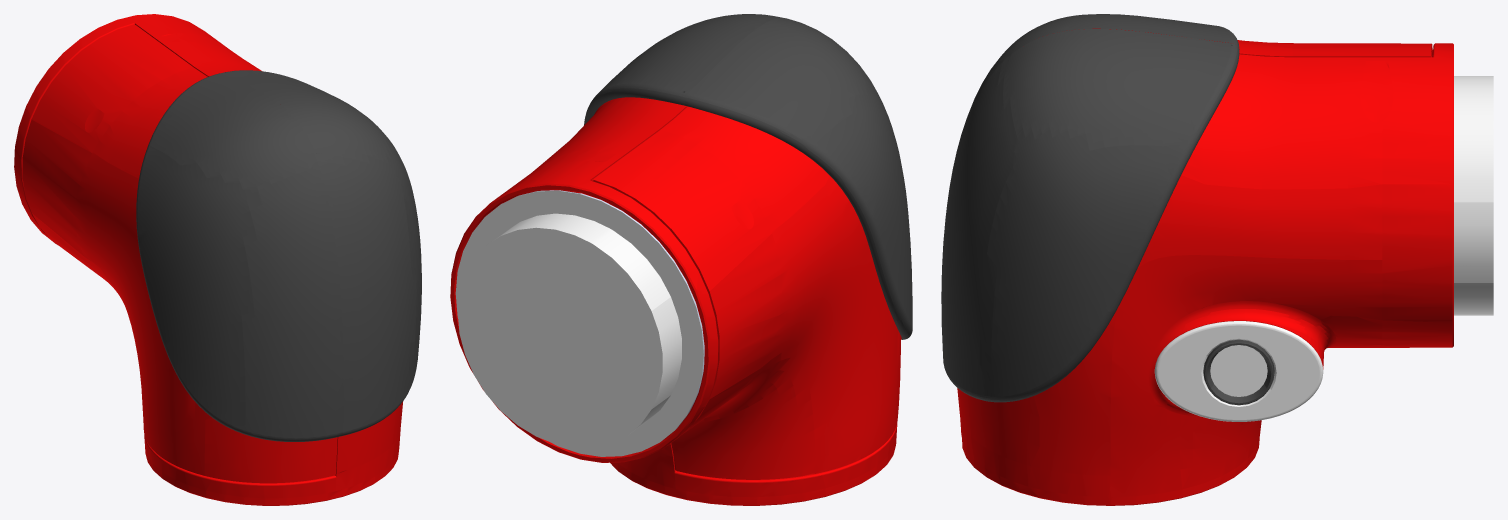
3 views of the same model, side by side, from view 1: azimuth 30°, elevation 25°; view 2: azimuth 150°, elevation 25°; view 3: azimuth 270°, elevation 25° (orthographic). The views are drawn at different scales.
Visible parts, largest first — view 1: _3DGeom_154_geo_0.021, _3DGeom_155_geo_1.021; view 2: _3DGeom_155_geo_1.021, _3DGeom_156_geo_2.015, _3DGeom_154_geo_0.021, _3DGeom_157_geo_3.014; view 3: _3DGeom_155_geo_1.021, _3DGeom_154_geo_0.021, _3DGeom_156_geo_2.015.
Boxes of the visible parts, x1,y1,x2,y2 form: _3DGeom_154_geo_0.021: [136, 70, 421, 441]; _3DGeom_155_geo_1.021: [14, 14, 403, 505]; _3DGeom_155_geo_1.021: [450, 97, 901, 505]; _3DGeom_156_geo_2.015: [455, 190, 703, 456]; _3DGeom_154_geo_0.021: [584, 14, 912, 339]; _3DGeom_157_geo_3.014: [502, 190, 704, 440]; _3DGeom_155_geo_1.021: [957, 28, 1453, 505]; _3DGeom_154_geo_0.021: [941, 14, 1274, 405]; _3DGeom_156_geo_2.015: [1154, 76, 1493, 421].
Bounding box in the file's own units: 0.0956 × 0.1278 × 0.154.
